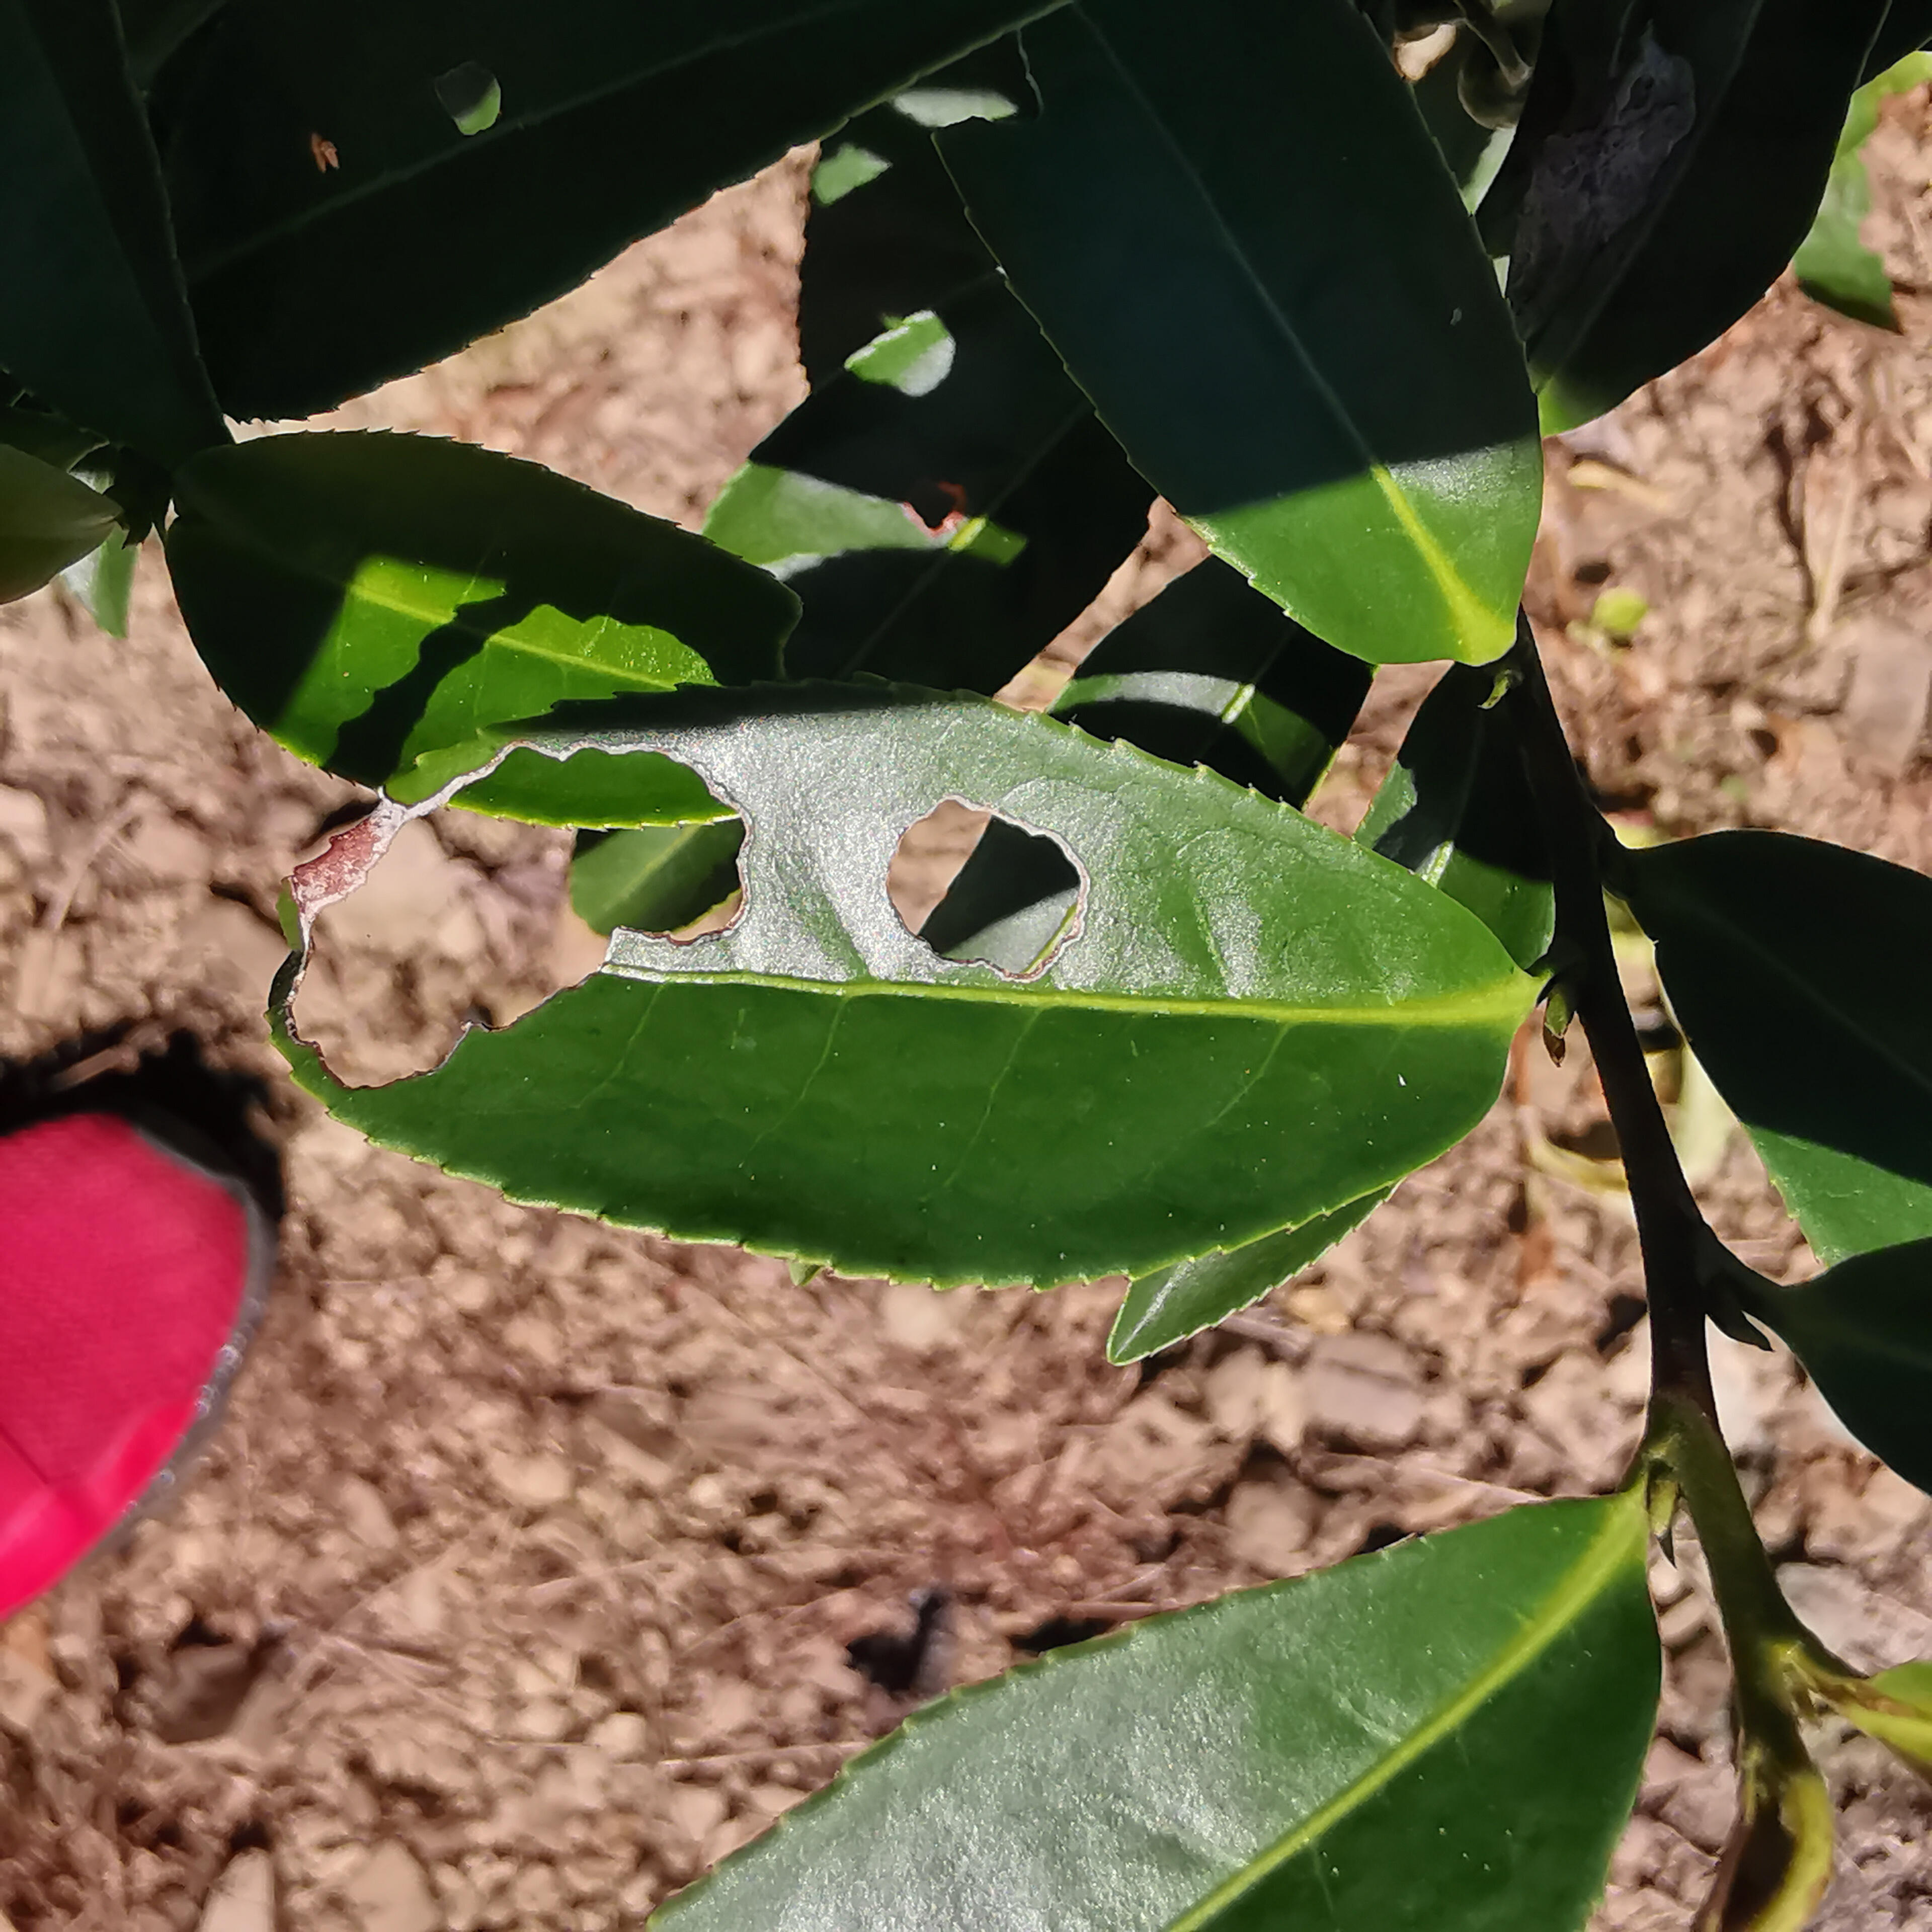chihuo_high: (262, 678, 1525, 1293)
chihuo_low: (925, 25, 1546, 676), (138, 2, 1070, 423)
